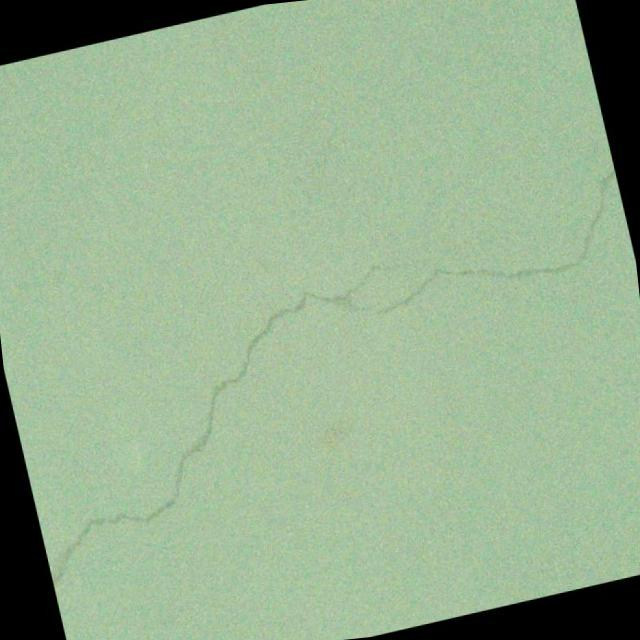crack: (0, 167, 640, 592)
